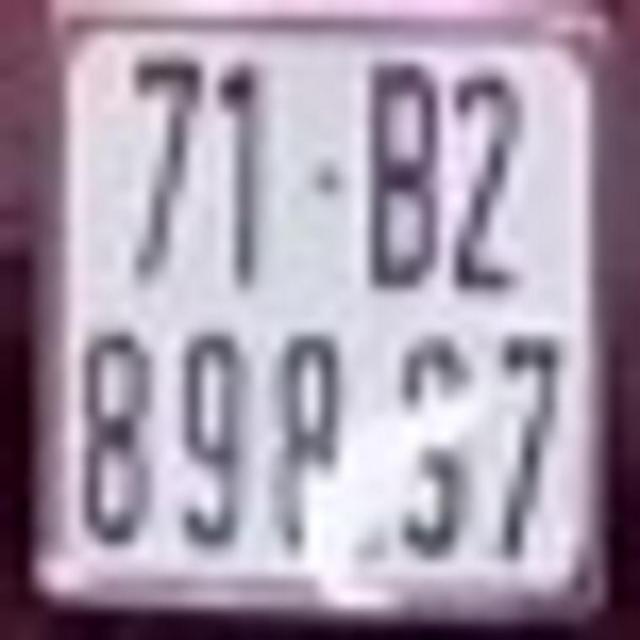1: (215, 58, 257, 281)
2: (454, 62, 519, 294)
7: (129, 53, 199, 284), (497, 331, 559, 551)
8: (279, 331, 340, 559), (84, 336, 148, 539)
9: (397, 331, 480, 552), (186, 331, 242, 543)
B: (370, 63, 441, 284)
